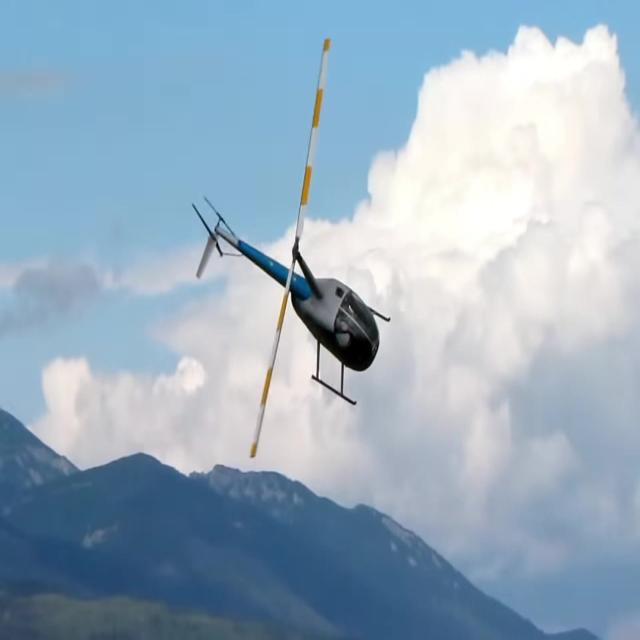CIV_HELO: (190, 193, 391, 405)
